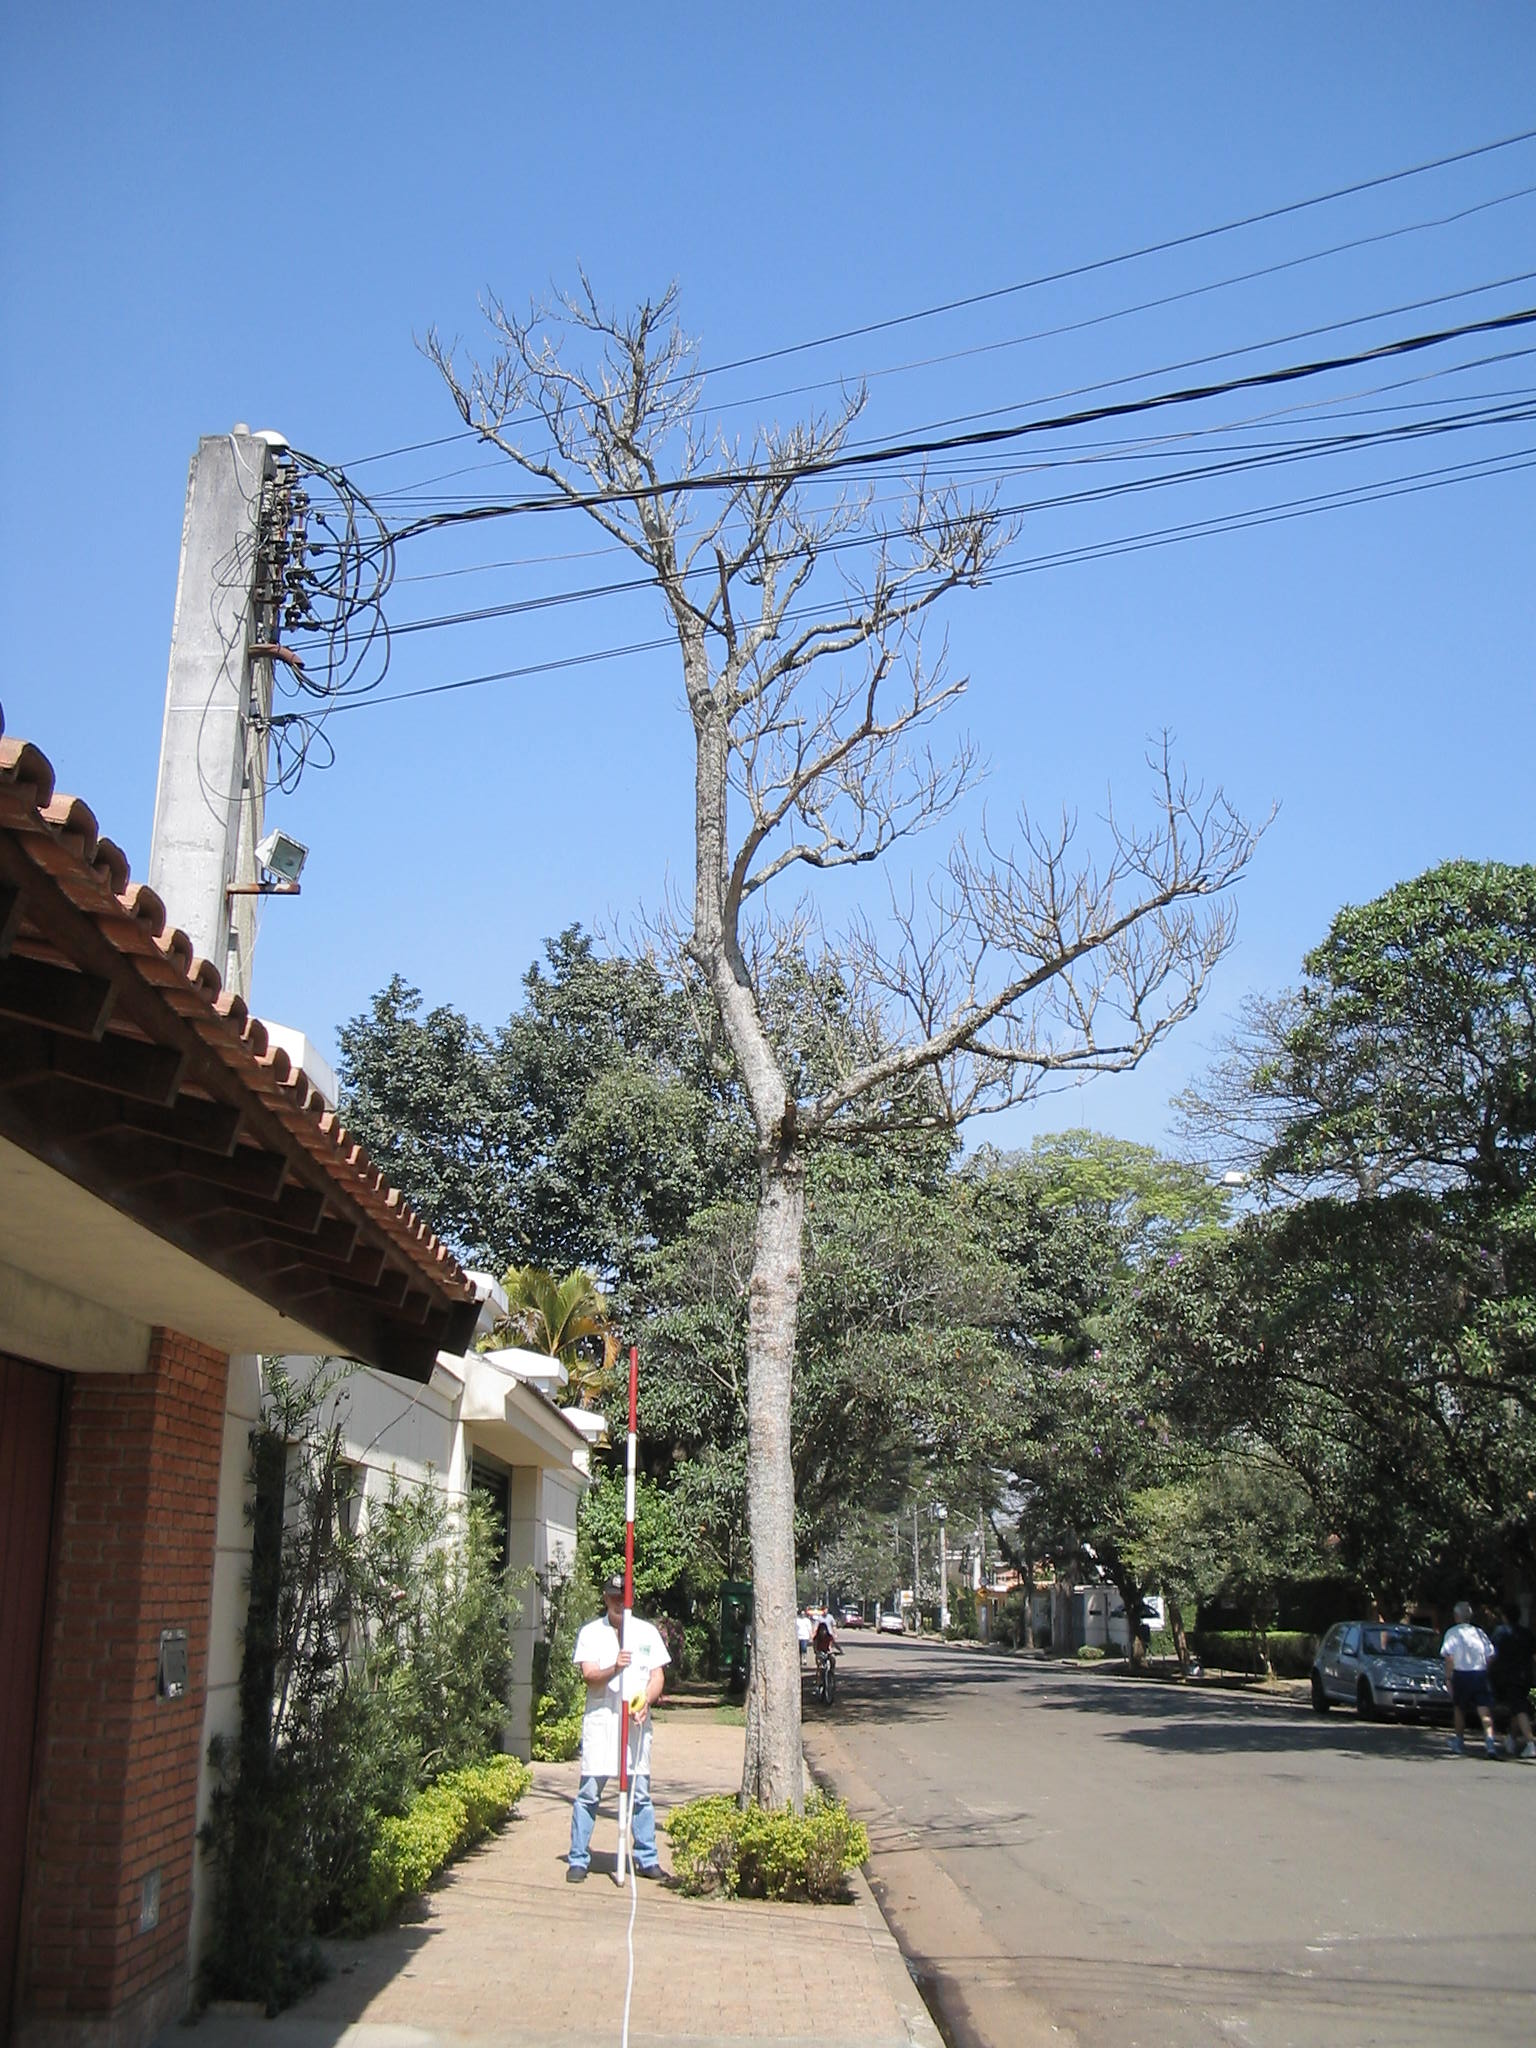stem: (695, 1171, 879, 1874)
stick: (573, 1345, 674, 1884)
tree: (408, 261, 1279, 1875)
